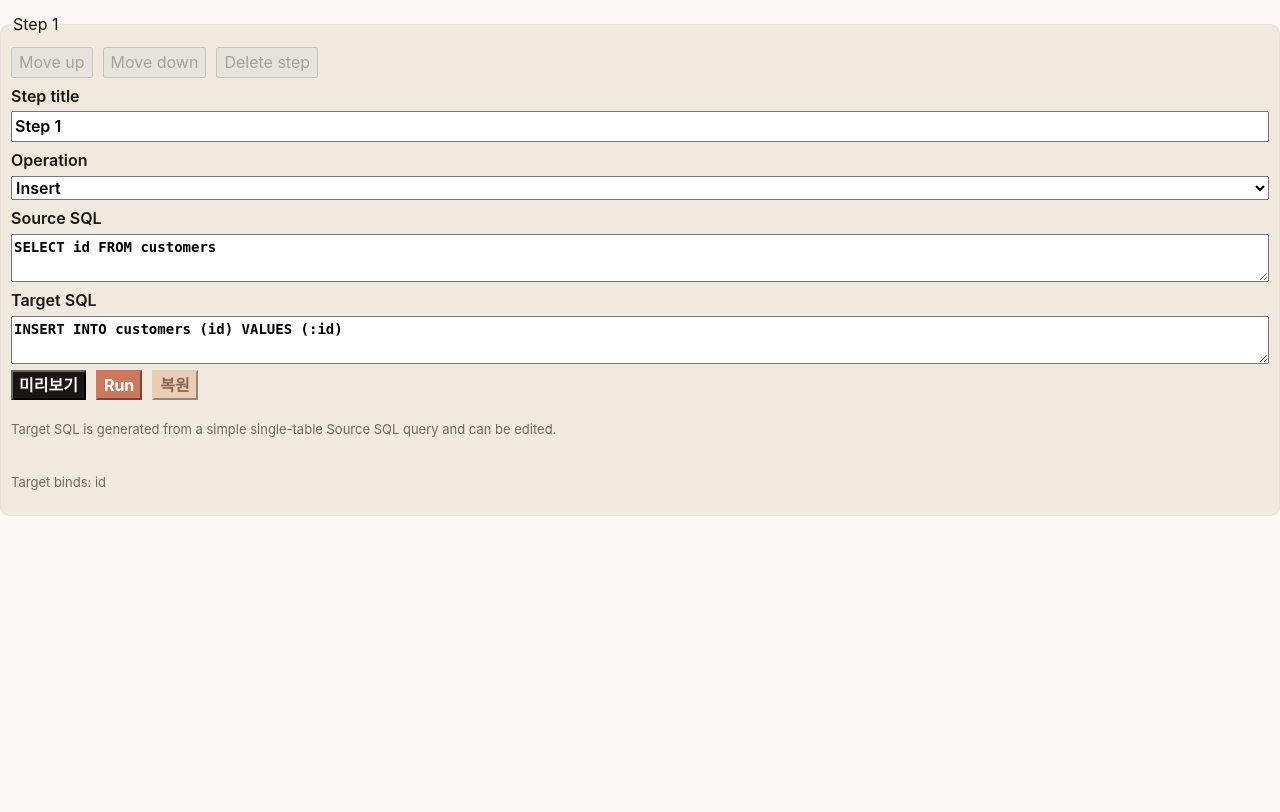
explains why a visually disabled restore action cannot run
Click the button "복원".
click(175, 385)  # box [152,370,198,400]
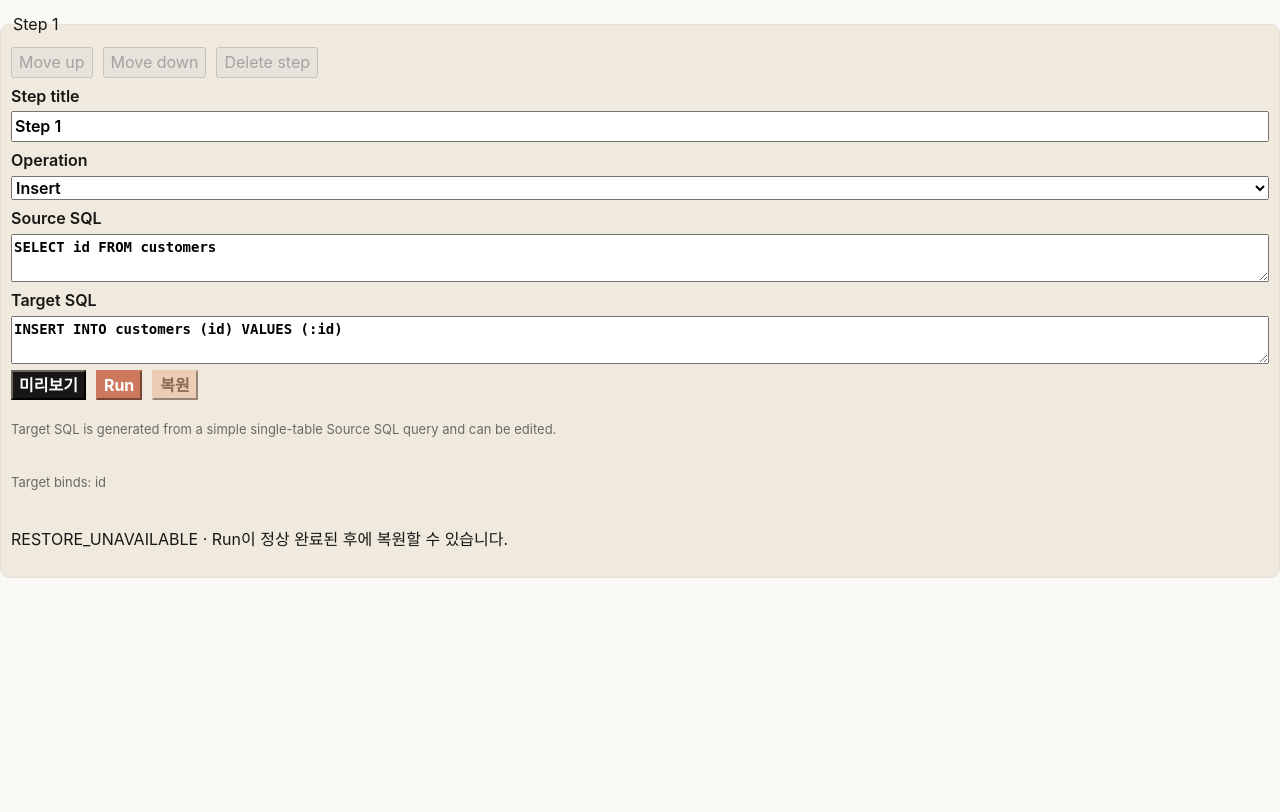
Check: the text with test id "restore-error-code" reads "RESTORE_UNAVAILABLE", box [11,529,198,549]
